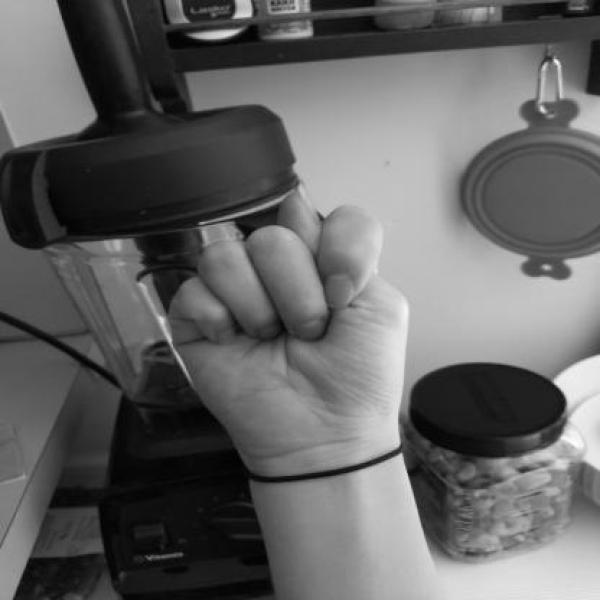T: (160, 179, 423, 473)
